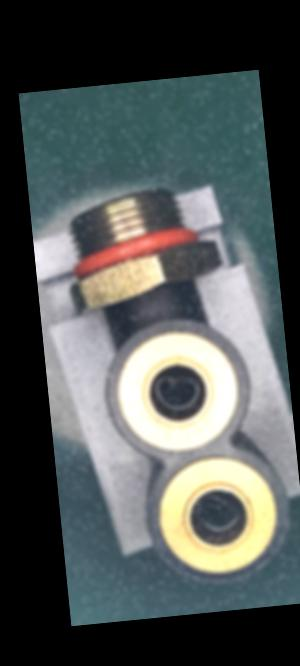joint line: (142, 289, 159, 322)
off-centered: (143, 364, 212, 416), (186, 486, 250, 539)
